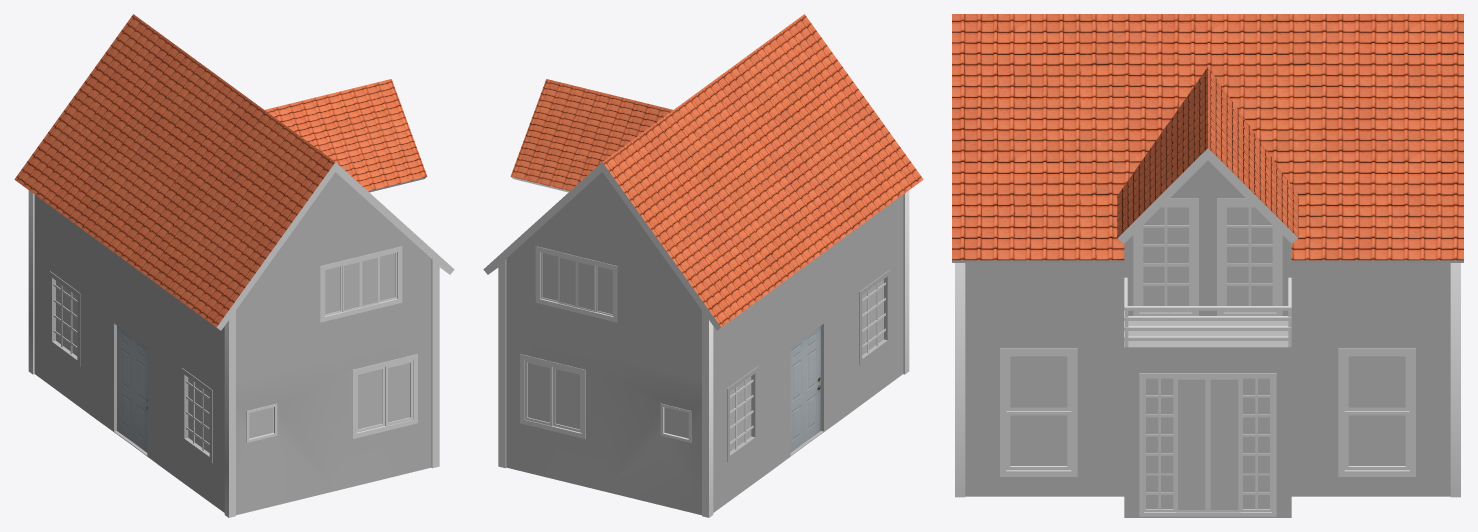
Rendered from house of wood 1.fbx.
3 renders of one model, left to right at view 1: azimuth 30°, elevation 25°; view 2: azimuth 150°, elevation 25°; view 3: azimuth 270°, elevation 25°, orthographic. The views are drawn at different scales.
Parts seen in each view (by area): view 1: polymsh_detached31, polymsh1, polymsh_detached40, polymsh3, polymsh2, polymsh_detached37, polymsh_detached, polymsh_detached38, polymsh_extracted20, polymsh_detached33, polymsh_detached26, polymsh_detached28 (+1 smaller); view 2: polymsh_detached31, polymsh1, polymsh_detached40, polymsh3, polymsh2, polymsh_detached37, polymsh_detached, polymsh_detached38, polymsh_extracted20, polymsh_detached33, polymsh_detached26, polymsh_detached28 (+1 smaller); view 3: polymsh1, polymsh_detached31, polymsh3, polymsh_detached40, polymsh_detached24, polymsh2, polymsh, polymsh_extracted3, polymsh_extracted, polymsh_detached25, polymsh_extracted1, polymsh_detached9 (+6 smaller).
Boxes of the visible parts, box(x1,y1,x2,y2) form: polymsh_detached31: box(34, 172, 431, 515); polymsh1: box(14, 14, 335, 327); polymsh_detached40: box(265, 79, 427, 190); polymsh3: box(249, 253, 410, 438); polymsh2: box(28, 190, 439, 517); polymsh_detached37: box(117, 326, 147, 452); polymsh_detached: box(216, 162, 454, 330); polymsh_detached38: box(56, 281, 209, 452); polymsh_extracted20: box(49, 271, 212, 463); polymsh_detached33: box(320, 246, 402, 322); polymsh_detached26: box(352, 354, 417, 439); polymsh_detached28: box(385, 360, 413, 426); polymsh_detached31: box(506, 172, 903, 515); polymsh1: box(602, 14, 923, 327); polymsh_detached40: box(510, 79, 672, 190); polymsh3: box(527, 253, 688, 438); polymsh2: box(498, 190, 909, 517); polymsh_detached37: box(790, 326, 820, 452); polymsh_detached: box(483, 162, 721, 330); polymsh_detached38: box(730, 279, 883, 451); polymsh_extracted20: box(727, 270, 890, 461); polymsh_detached33: box(535, 246, 617, 322); polymsh_detached26: box(520, 354, 585, 439); polymsh_detached28: box(524, 360, 552, 426); polymsh1: box(952, 14, 1463, 260); polymsh_detached31: box(965, 160, 1450, 517); polymsh3: box(1010, 207, 1405, 509); polymsh_detached40: box(1117, 67, 1298, 237); polymsh_detached24: box(1000, 348, 1415, 476); polymsh2: box(955, 263, 1460, 497); polymsh: box(1124, 277, 1291, 347); polymsh_extracted3: box(1133, 198, 1282, 315); polymsh_extracted: box(1139, 373, 1276, 516); polymsh_detached25: box(1006, 411, 1409, 470); polymsh_extracted1: box(1117, 148, 1298, 243); polymsh_detached9: box(1139, 205, 1276, 312).
Bounding box in the file's own units: 44.37 × 50.82 × 56.26.
